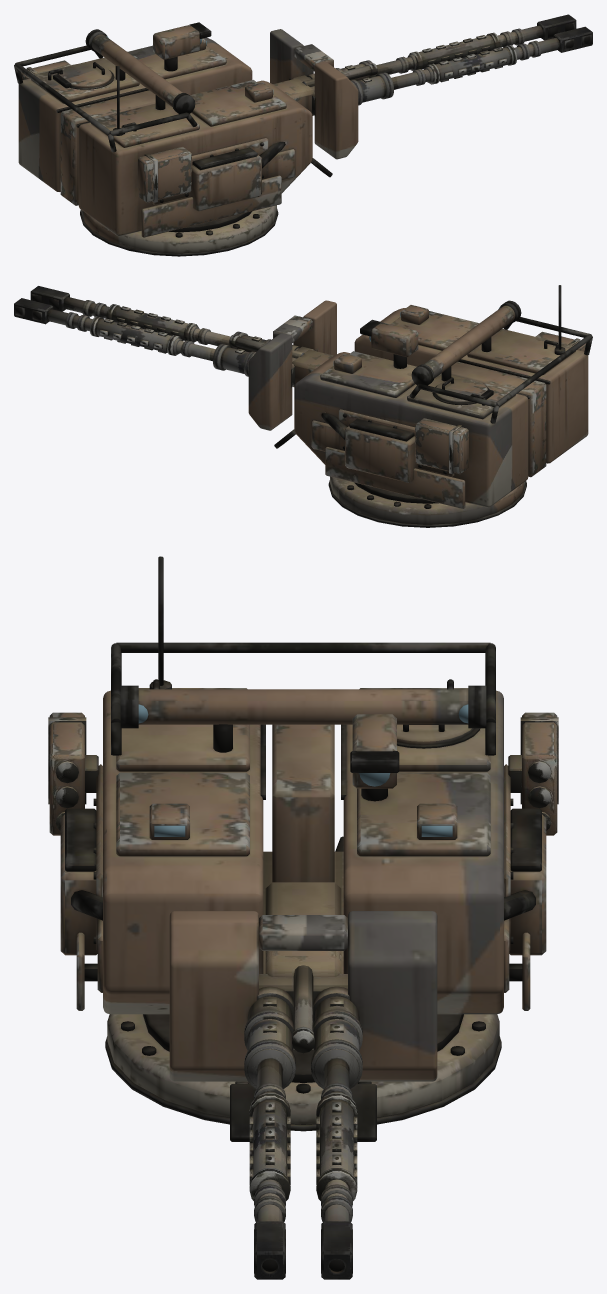
Rendered from turret_kit_t3_rock.glb.
3 views of the same model, one above another, from view 1: azimuth 30°, elevation 25°; view 2: azimuth 150°, elevation 25°; view 3: azimuth 270°, elevation 25° (orthographic). The views are drawn at different scales.
Visible parts, largest first — view 1: turret_twin_t3, guns, pods; view 2: turret_twin_t3, guns, pods; view 3: turret_twin_t3, guns, pods.
Part boxes in pixels (x1,y1,x2,y2): turret_twin_t3: [14, 22, 358, 256]; guns: [273, 14, 592, 115]; pods: [21, 60, 191, 202]; turret_twin_t3: [248, 285, 592, 527]; guns: [14, 286, 333, 387]; pods: [415, 331, 586, 474]; turret_twin_t3: [60, 556, 546, 1141]; guns: [244, 882, 362, 1279]; pods: [48, 712, 558, 835].
Size of the model in its own units: 2.7 by 0.98 by 1.15.
4 materials, 3 textured.
